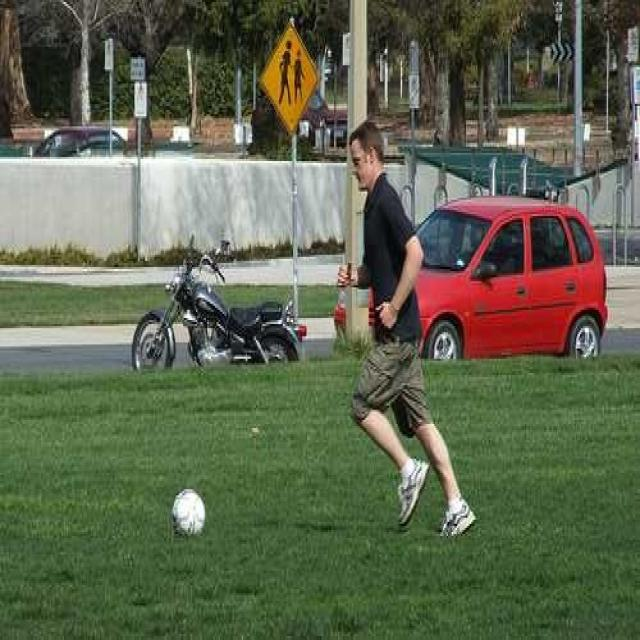ball: (172, 489, 207, 538)
